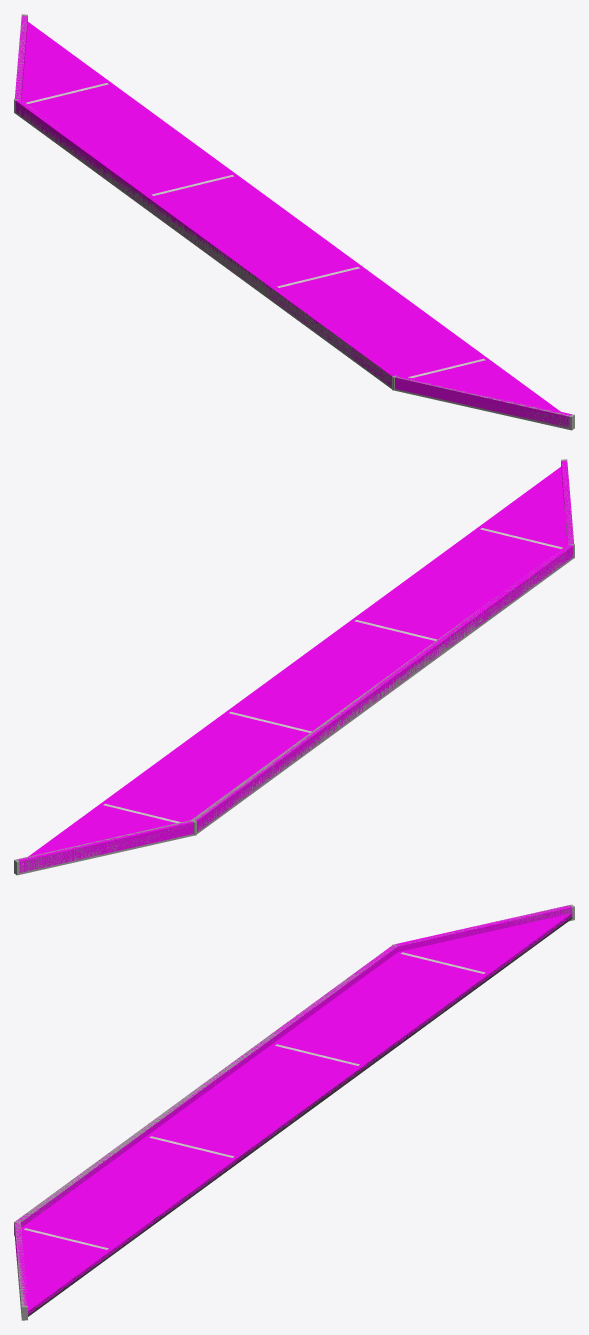
File: EN_Park_Pocket_Parallel_3x.fbx
3 renders of one model, top to bottom at view 1: azimuth 30°, elevation 25°; view 2: azimuth 150°, elevation 25°; view 3: azimuth 330°, elevation 25°, orthographic.
Parts seen in each view (by area): view 1: COL_DriveSurface, COL_Curb, EN_Park_Pocket_Parallel_3x_Mesh, EN_Park_Pocket_Parallel_3x_Markings; view 2: COL_DriveSurface, COL_Curb, EN_Park_Pocket_Parallel_3x_Mesh, EN_Park_Pocket_Parallel_3x_Markings; view 3: COL_DriveSurface, EN_Park_Pocket_Parallel_3x_Mesh, COL_Curb, EN_Park_Pocket_Parallel_3x_Markings.
Boxes of the visible parts, x1,y1,x2,y2 form: COL_DriveSurface: (21,22,560,411); COL_Curb: (14,15,571,427); EN_Park_Pocket_Parallel_3x_Mesh: (14,14,574,430); EN_Park_Pocket_Parallel_3x_Markings: (26,83,485,378); COL_DriveSurface: (28,467,567,856); COL_Curb: (17,460,573,872); EN_Park_Pocket_Parallel_3x_Mesh: (14,459,574,875); EN_Park_Pocket_Parallel_3x_Markings: (103,528,562,823); COL_DriveSurface: (21,913,572,1314); EN_Park_Pocket_Parallel_3x_Mesh: (14,904,574,1320); COL_Curb: (14,905,572,1305); EN_Park_Pocket_Parallel_3x_Markings: (24,952,485,1249).
Bounding box in the file's own units: 2.71 × 0.35 × 26.29.
